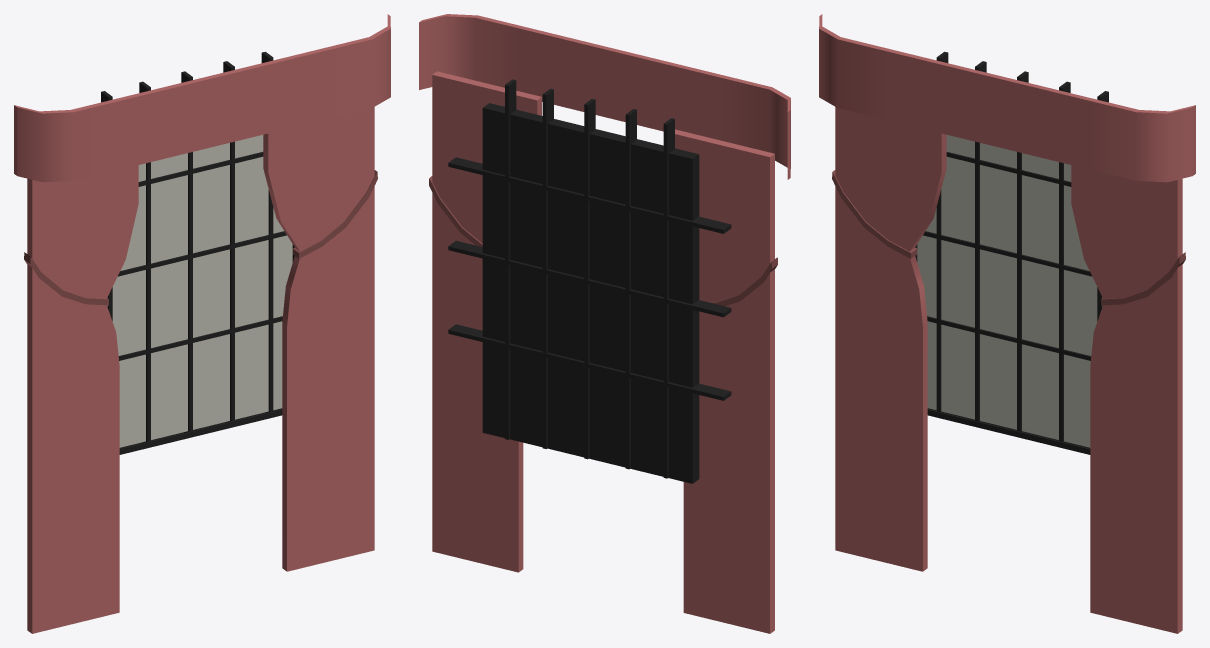
Rendered from Curtain.fbx.
The picture shows the model from 3 angles, left to right: view 1: azimuth 30°, elevation 25°; view 2: azimuth 150°, elevation 25°; view 3: azimuth 330°, elevation 25°; orthographic projection.
Parts seen in each view (by area): view 1: polySurface1; view 2: polySurface1; view 3: polySurface1.
Part boxes in pixels (x1,y1,x2,y2): polySurface1: (14, 14, 390, 633); polySurface1: (419, 14, 790, 633); polySurface1: (819, 14, 1195, 633).
Bounding box in the file's own units: 19.39 × 26.33 × 3.58.
